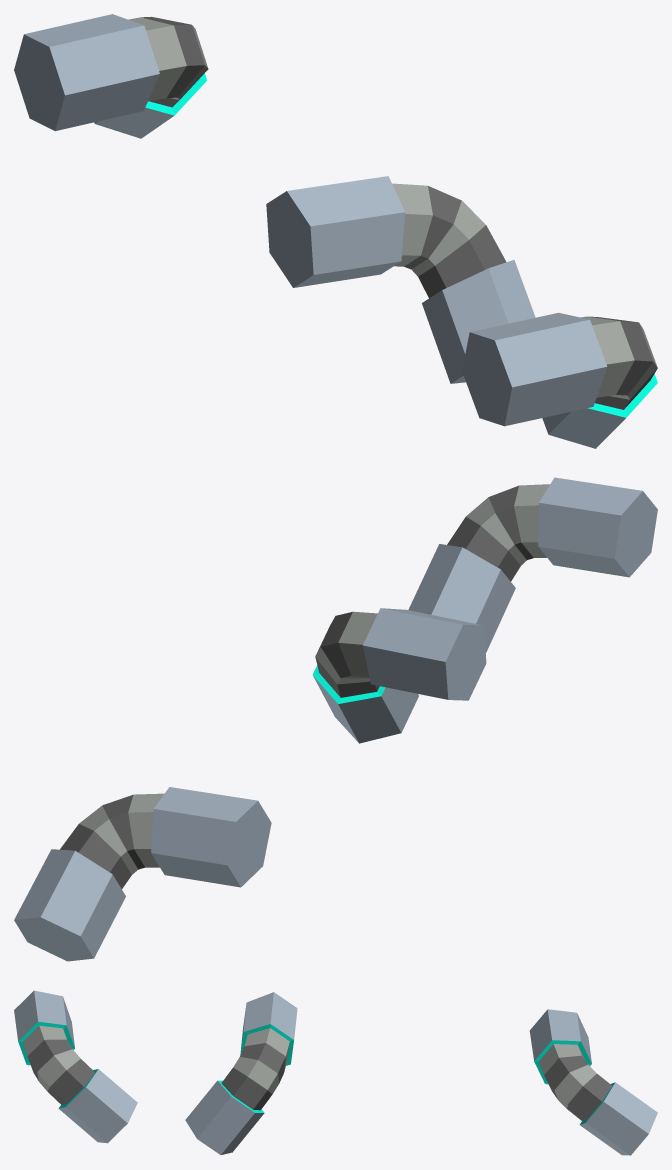
File: Freighter_Pipes.01.fbx
3 views of the same model, one above another, from view 1: azimuth 30°, elevation 25°; view 2: azimuth 150°, elevation 25°; view 3: azimuth 270°, elevation 25° (orthographic). The views are drawn at different scales.
Parts seen in each view (by area): view 1: Pipes_01_LOD0; view 2: Pipes_01_LOD0; view 3: Pipes_01_LOD0.
Part boxes in pixels (x1,y1,x2,y2): Pipes_01_LOD0: (14, 14, 657, 448); Pipes_01_LOD0: (14, 477, 657, 961); Pipes_01_LOD0: (14, 990, 657, 1155).
Size of what is drawn, in the model's own units: 2432 by 2502 by 12076.
1 material, 1 textured.
